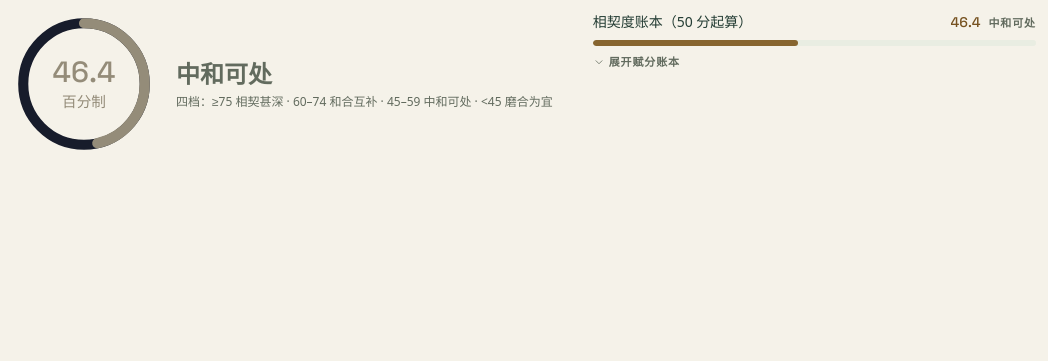
Test: SynastryScoreRing 的赋分账本（Task 8B 判据 5） › 展开后九行逐格对账：标签、一位小数增量走全库唯一的 formatDelta、来源角标不带书名
The width and height of the screenshot is (1048, 361).
Expected: the text "基准分" is not shown
Click the button "展开赋分账本" at (636, 62), box [593,54,680,70]
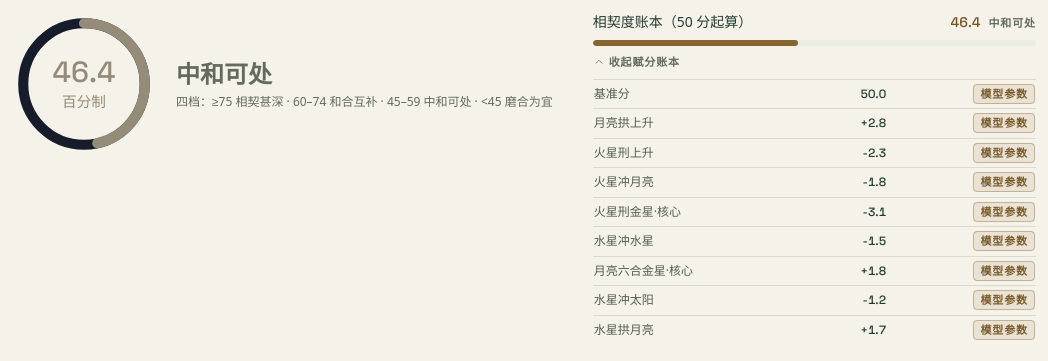
Now the button "收起赋分账本" is expanded, box [593,54,680,70]
Now the number of rows is 9
Now the column heading "基准分" is shown, box [593,79,810,108]
